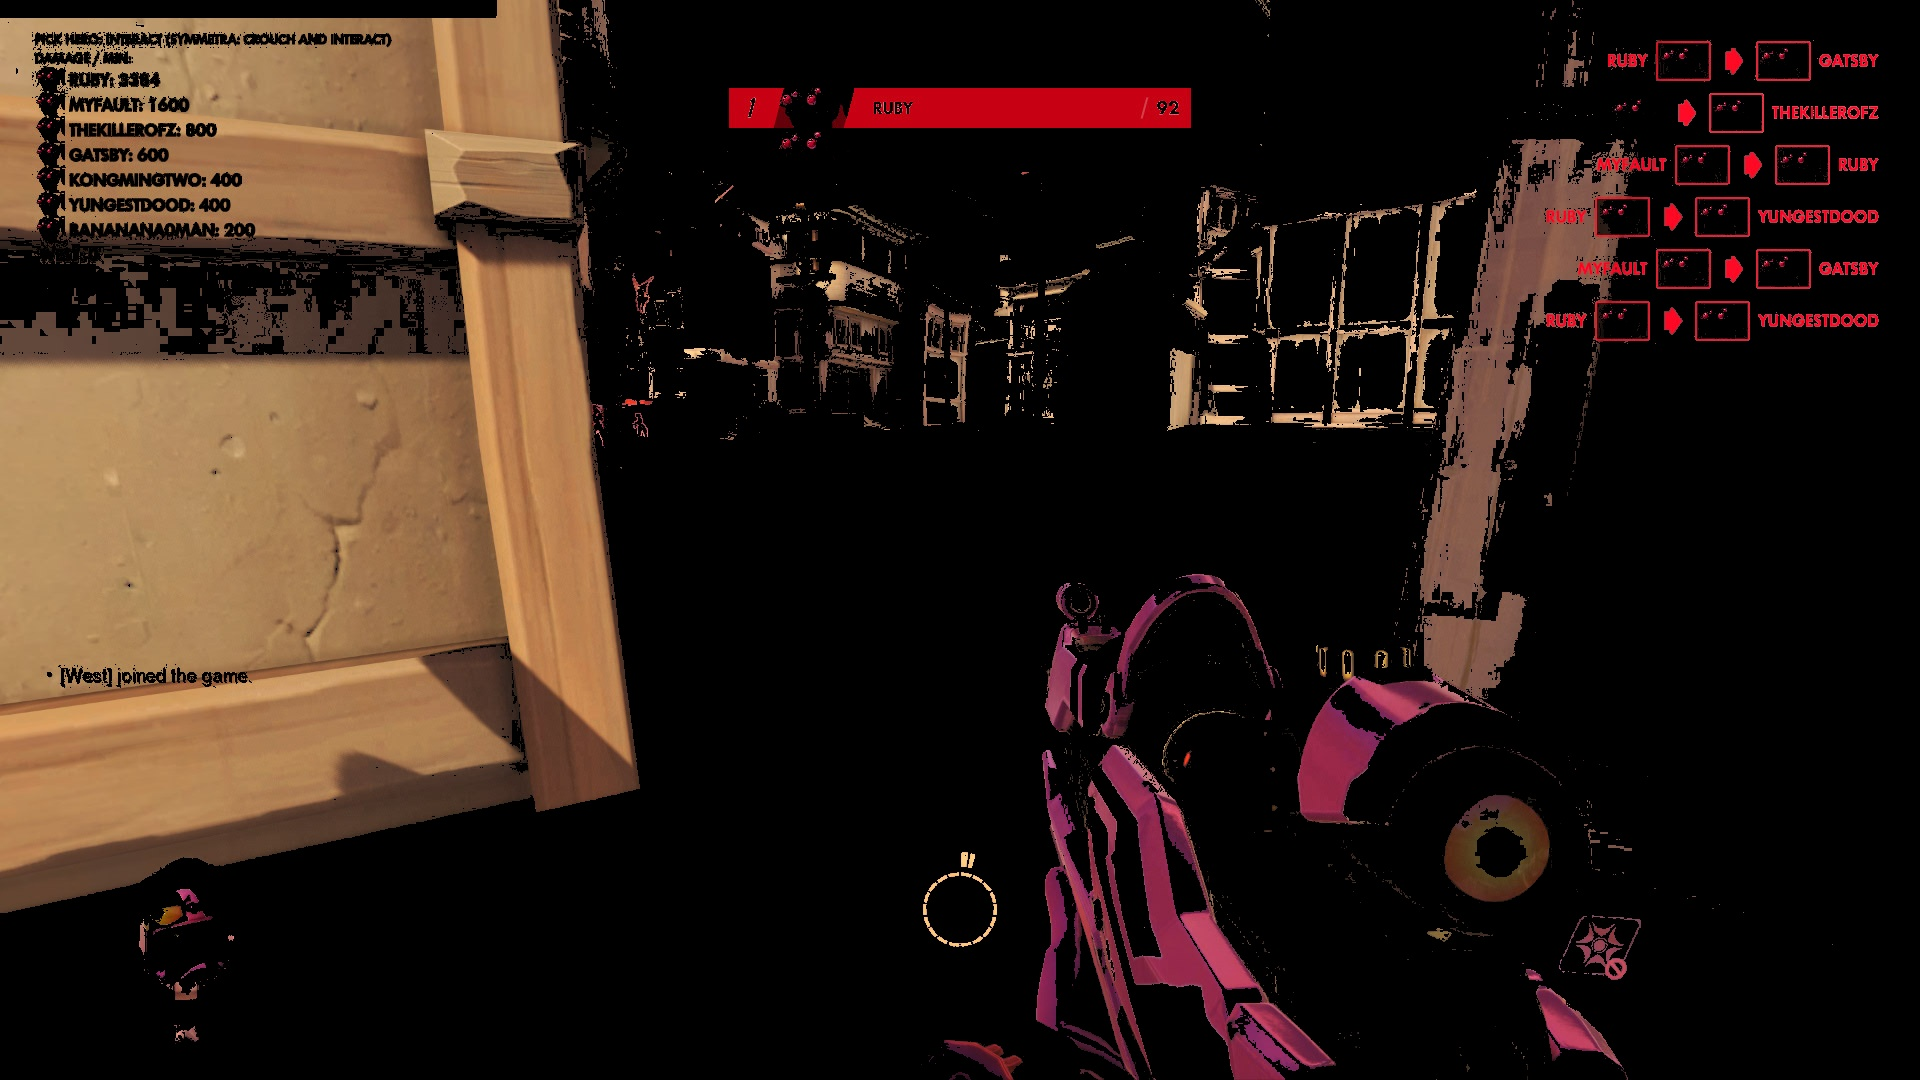widowmaker: (585, 400, 616, 448), (632, 411, 653, 444)
